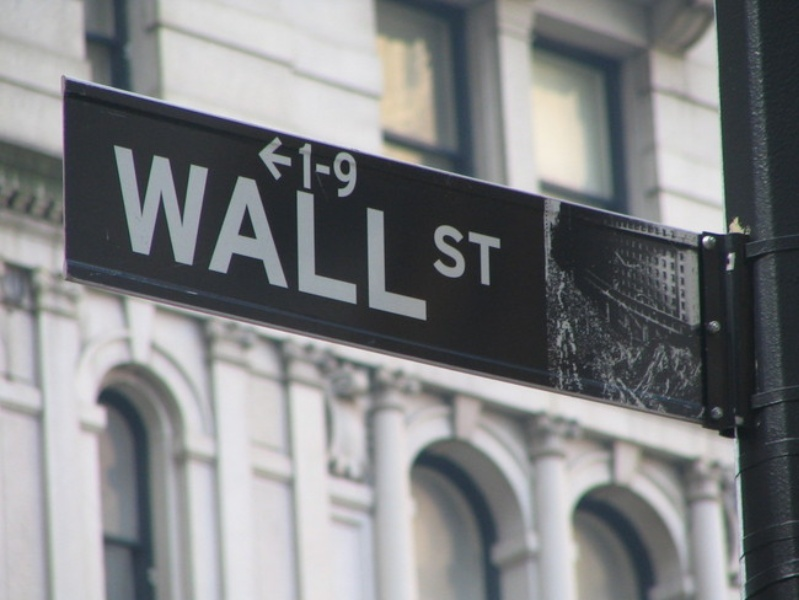text: (113, 138, 128, 326), (129, 138, 144, 326), (145, 138, 160, 326), (161, 138, 176, 326), (177, 138, 192, 326), (193, 138, 208, 326), (209, 138, 224, 326), (225, 138, 240, 326), (241, 138, 256, 326), (257, 138, 272, 326), (273, 138, 288, 326), (289, 138, 304, 326), (305, 138, 320, 326), (321, 138, 336, 326), (337, 138, 352, 326), (353, 138, 368, 326), (369, 138, 384, 326), (385, 138, 400, 326), (401, 138, 416, 326), (417, 138, 432, 326), (433, 219, 448, 288), (449, 219, 464, 288), (465, 219, 480, 288), (481, 219, 496, 288), (305, 137, 319, 191), (433, 138, 437, 326), (337, 147, 352, 197), (109, 138, 112, 326), (497, 219, 504, 288), (353, 147, 362, 197), (296, 137, 304, 191), (321, 163, 332, 176), (334, 147, 336, 197), (313, 163, 320, 176)
